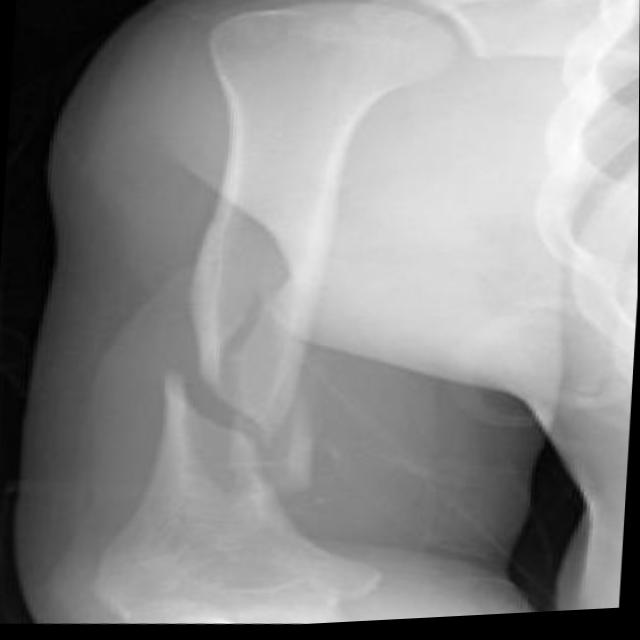fracture: (143, 375, 317, 478), (184, 288, 317, 362)
